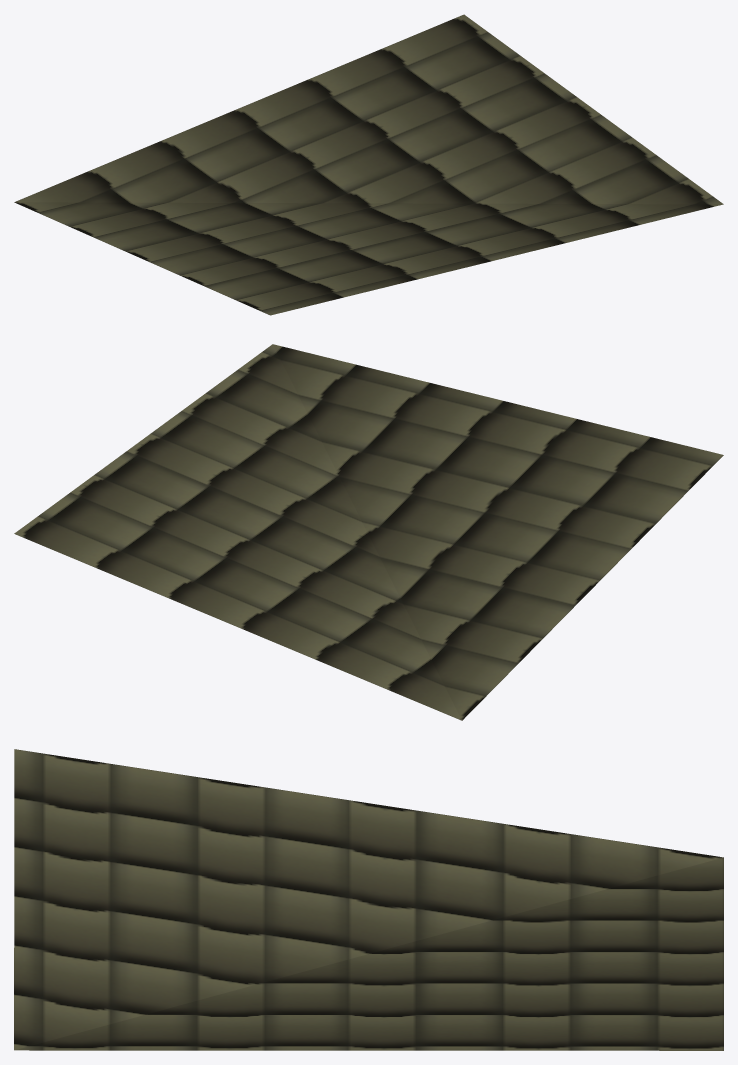
The model's file is NNJ0510065.fbx.
The picture shows the model from 3 angles, top to bottom: view 1: azimuth 30°, elevation 25°; view 2: azimuth 150°, elevation 25°; view 3: azimuth 270°, elevation 25°; orthographic projection. The views are drawn at different scales.
Parts seen in each view (by area): view 1: smNNJ0510065; view 2: smNNJ0510065; view 3: smNNJ0510065.
Boxes of the visible parts, bbox=[...] form: smNNJ0510065: bbox=[14, 14, 723, 315]; smNNJ0510065: bbox=[14, 344, 723, 720]; smNNJ0510065: bbox=[14, 749, 723, 1050].
Size of the model in its own units: 278 by 45.97 by 276.
1 material, 1 textured.
